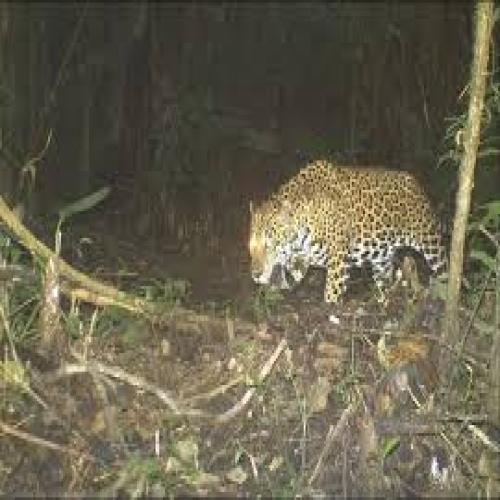jaguar_not-endangered: (246, 160, 449, 302)
